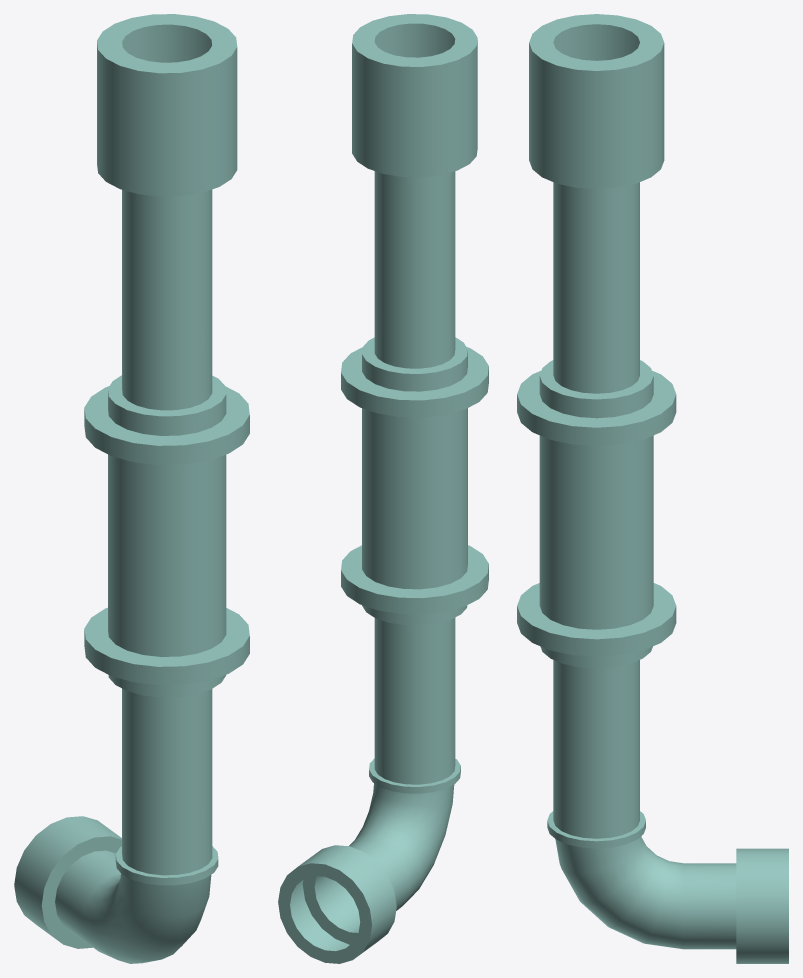
The model's file is Pipe_Vertical_Big_5.fbx.
3 views of the same model, side by side, from view 1: azimuth 30°, elevation 25°; view 2: azimuth 150°, elevation 25°; view 3: azimuth 270°, elevation 25° (orthographic). The views are drawn at different scales.
Parts seen in each view (by area): view 1: Pipe_Vertical_Big_5; view 2: Pipe_Vertical_Big_5; view 3: Pipe_Vertical_Big_5.
Part boxes in pixels (x1,y1,x2,y2): Pipe_Vertical_Big_5: [14, 14, 249, 963]; Pipe_Vertical_Big_5: [278, 14, 488, 963]; Pipe_Vertical_Big_5: [517, 14, 788, 963].
Bounding box in the file's own units: 32.67 × 208 × 55.78.
